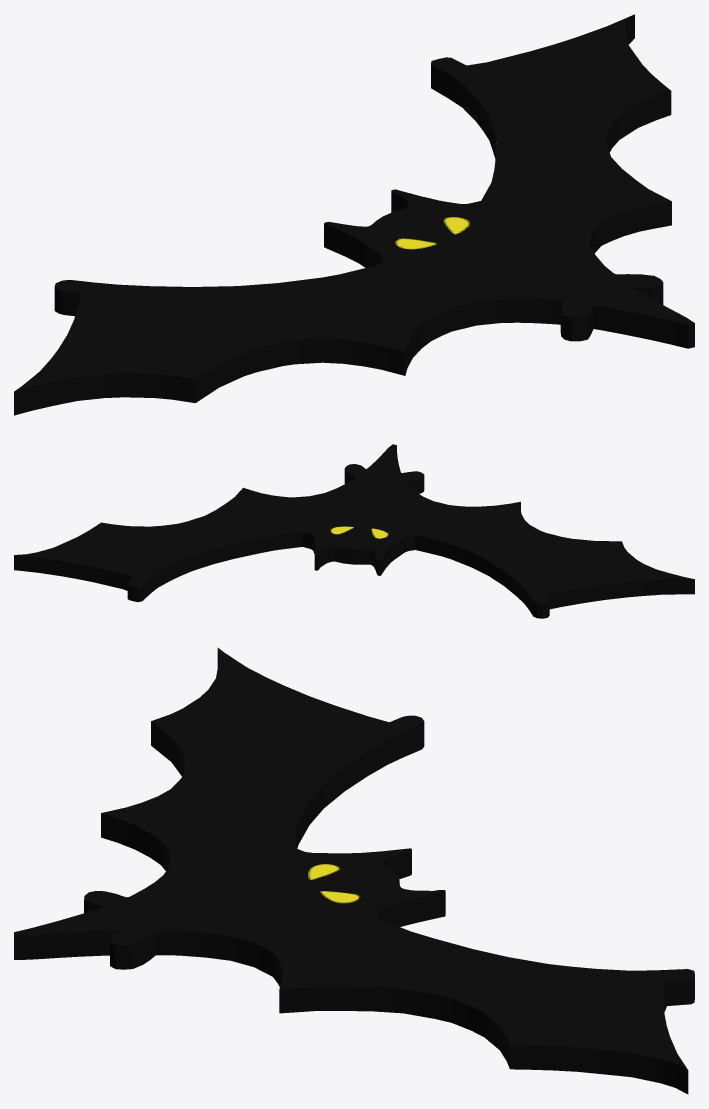
File: Bat2D.fbx
3 renders of one model, top to bottom at view 1: azimuth 30°, elevation 25°; view 2: azimuth 150°, elevation 25°; view 3: azimuth 270°, elevation 25°, orthographic. The views are drawn at different scales.
Parts seen in each view (by area): view 1: Plane; view 2: Plane; view 3: Plane.
Part boxes in pixels (<box>): Plane: <box>14,14,694,415</box>; Plane: <box>14,444,694,618</box>; Plane: <box>14,647,694,1094</box>.
Size of the model in its own units: 494 by 13.33 by 336.
